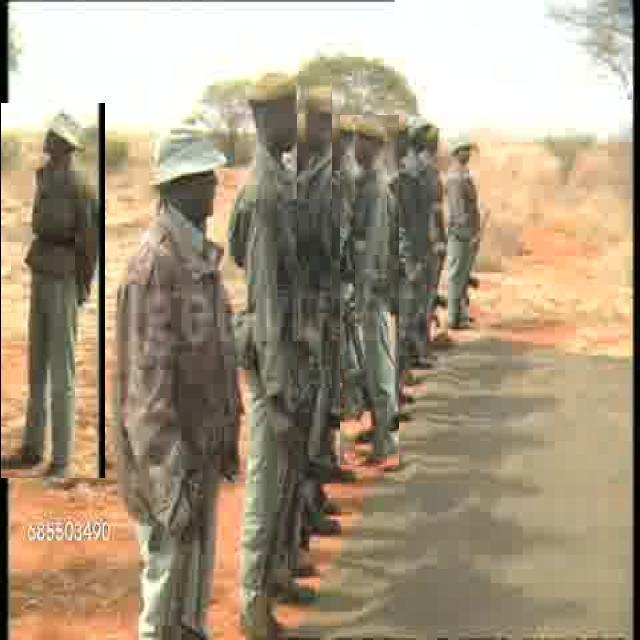poacher: (111, 119, 232, 619), (1, 103, 106, 478), (234, 73, 300, 601), (340, 116, 399, 466), (297, 76, 332, 388), (446, 121, 486, 336)
